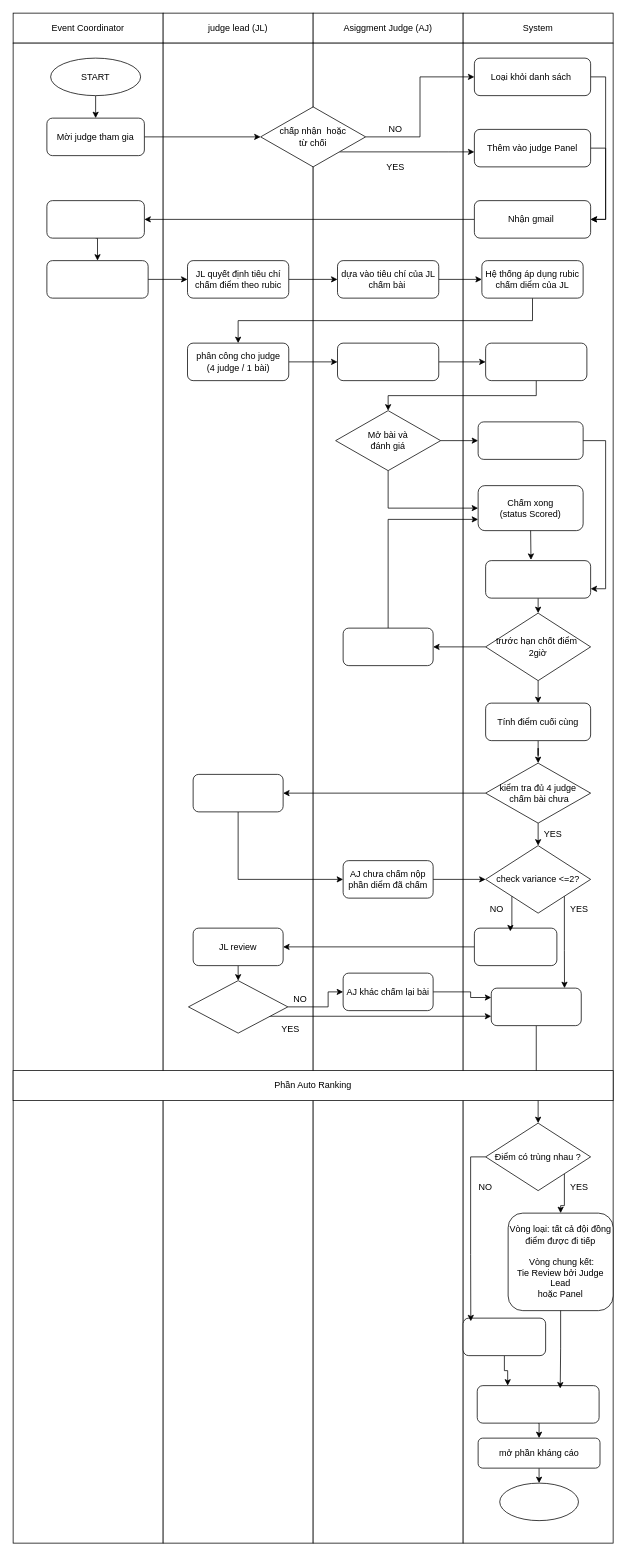
The diagram is 626 pixels wide and 1556 high, and some of its shapes have lost their labels. Here are the shapes that lost their labels. From the top down, the centre of each, then its label:
the point at 95,219: Giao bài mẫu hiệu chuẩn
the point at 97,279: Quyết định judge leader
the point at 388,361: AJ nhạn bài và chấm
the point at 536,361: Chia bài thi ẩn danh
the point at 530,440: mở lên rồi skip, chưa mở lên để chấm (status pending)
the point at 538,579: Cập nhật trạng thái bài thi
the point at 387,646: Có bài dạng status pending báo về gmail
the point at 237,793: JL nhận thông tin và kiểm tra bài chưa thông tin AJ
the point at 515,946: Đánh dấu Flag Review
the point at 238,1006: giữ nguyên hay không
the point at 535,1006: Auto ranking
the point at 504,1336: Xác định đội đi tiếp hoặc bị loại
the point at 537,1404: Công bố kết quả và gửi thông báo qua Gmail
the point at 538,1501: END
